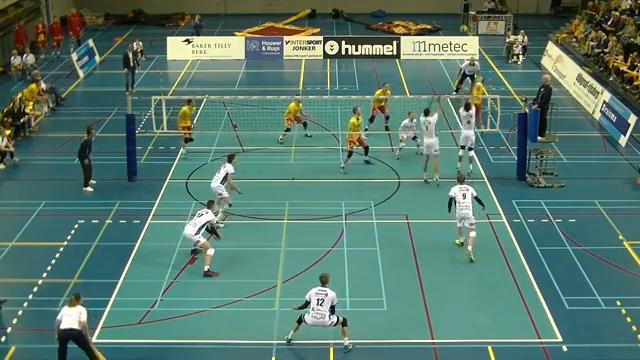attacco: (462, 74, 486, 129)
muro: (417, 92, 442, 186), (454, 88, 478, 181)
